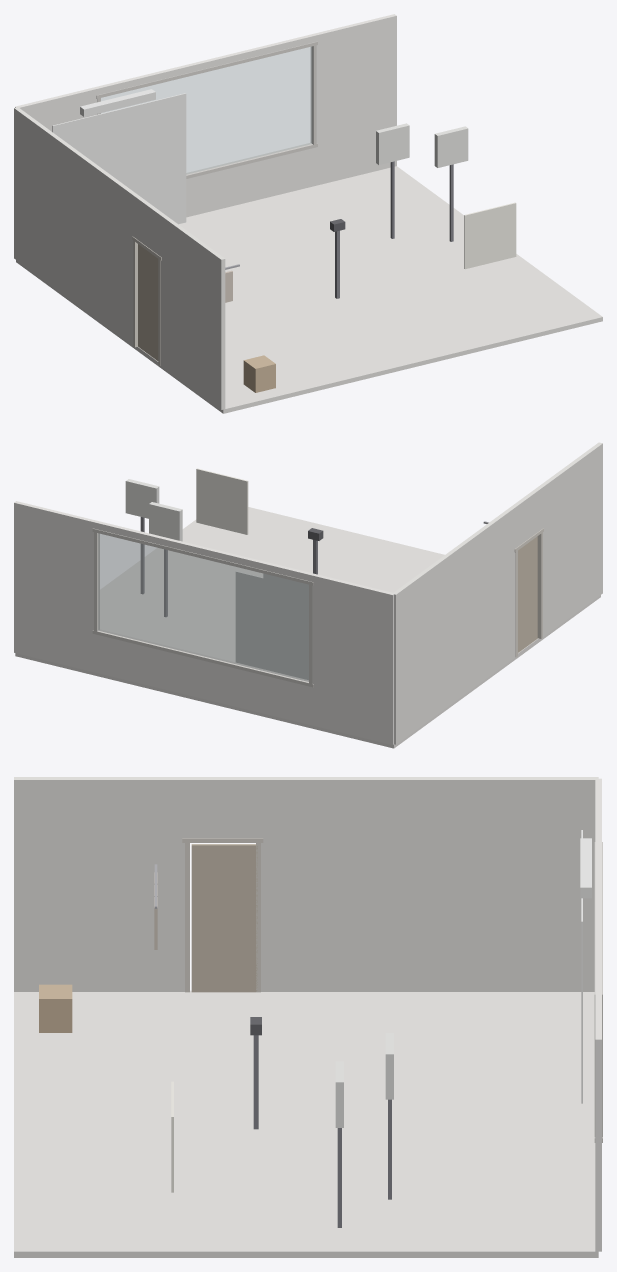
File: scene-photostudio.glb
The picture shows the model from 3 angles, top to bottom: view 1: azimuth 30°, elevation 25°; view 2: azimuth 150°, elevation 25°; view 3: azimuth 270°, elevation 25°; orthographic projection. The views are drawn at different scales.
Parts seen in each view (by area): view 1: floor, wall_left_a, window_glass, wall_back_r, wall_left_b, backdrop_paper, wall_back_sill, reflector_panel, door_left, wall_back_lintel, wall_back_l, wall_left_lintel (+8 smaller); view 2: floor, window_glass, wall_left_a, wall_back_l, wall_back_r, wall_left_b, wall_back_sill, backdrop_paper, reflector_panel, door_left, wall_back_lintel, frame_back_bottom (+6 smaller); view 3: floor, wall_left_a, wall_left_b, door_left, wall_left_lintel, wall_back_r, prop_stool, wall_back_lintel, frame_left_a, frame_left_b, backdrop_roll.
Boxes of the visible parts, x1,y1,x2,y2 form: floor: (16, 166, 602, 413); wall_left_a: (14, 107, 137, 345); window_glass: (101, 46, 312, 174); wall_back_r: (313, 14, 396, 185); wall_left_b: (160, 214, 225, 409); backdrop_paper: (52, 93, 186, 224); wall_back_sill: (186, 147, 317, 217); reflector_panel: (464, 202, 516, 269); door_left: (138, 244, 158, 360); wall_back_lintel: (95, 34, 314, 94); wall_back_l: (15, 86, 99, 131); wall_left_lintel: (134, 194, 163, 256); floor: (15, 507, 600, 748); window_glass: (98, 533, 308, 681); wall_left_a: (392, 506, 515, 744); wall_back_l: (311, 573, 394, 744); wall_back_r: (14, 501, 97, 672); wall_left_b: (538, 442, 602, 636); wall_back_sill: (93, 634, 313, 724); backdrop_paper: (235, 571, 308, 679); reflector_panel: (196, 468, 248, 534); door_left: (518, 536, 537, 652); wall_back_lintel: (93, 520, 315, 581); frame_back_bottom: (92, 629, 313, 687); floor: (14, 990, 598, 1257); wall_left_a: (258, 777, 598, 991); wall_left_b: (14, 777, 187, 991); door_left: (191, 844, 257, 992); wall_left_lintel: (182, 777, 263, 838); wall_back_r: (595, 983, 601, 1251); prop_stool: (39, 984, 72, 1032); wall_back_lintel: (595, 833, 601, 983); frame_left_a: (256, 841, 260, 992); frame_left_b: (185, 841, 189, 992); backdrop_roll: (580, 838, 591, 898).
Size of the model in its own units: 7.45 by 2.88 by 7.05.
